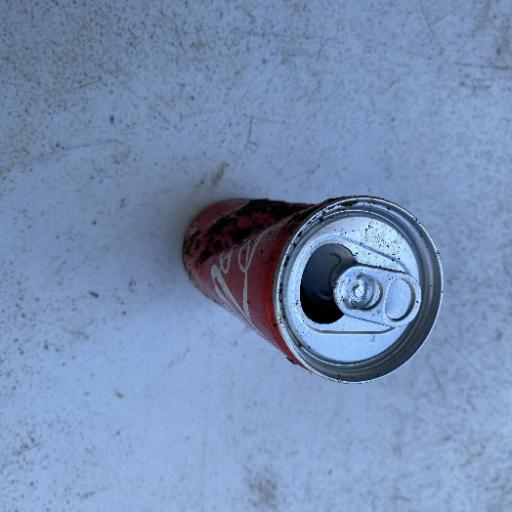Metal: (179, 190, 445, 386)
